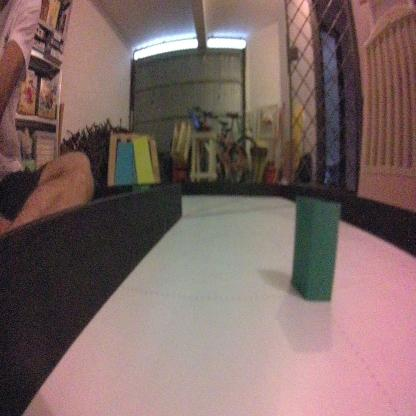green: (288, 191, 344, 310)
